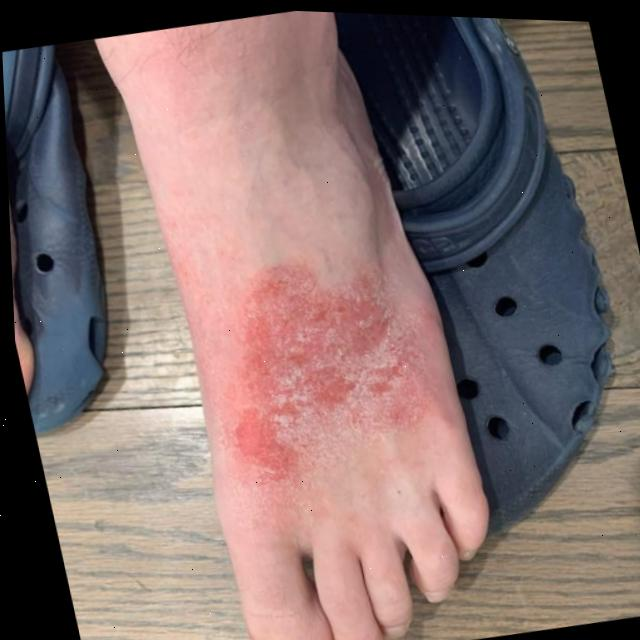Eczema: (176, 199, 434, 505)
